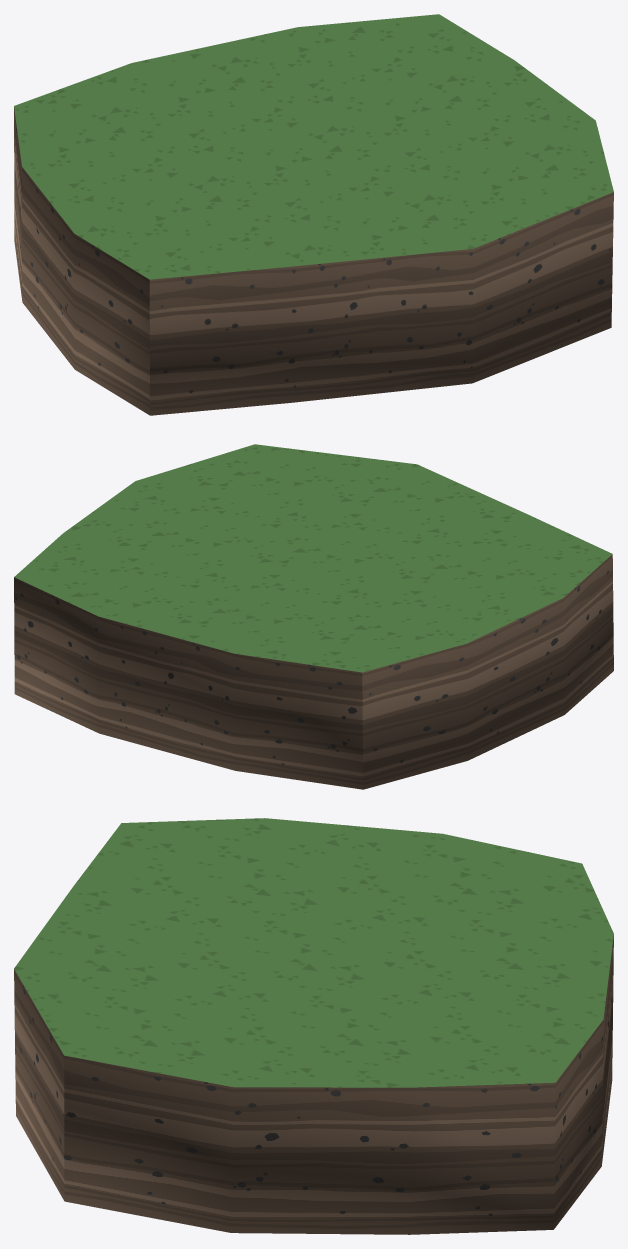
The model's file is ground1.gltf.
The picture shows the model from 3 angles, top to bottom: view 1: azimuth 30°, elevation 25°; view 2: azimuth 150°, elevation 25°; view 3: azimuth 270°, elevation 25°; orthographic projection. The views are drawn at different scales.
Visible parts, largest first — view 1: ground1; view 2: ground1; view 3: ground1.
Part boxes in pixels (left/top/right/bottom): ground1: left=14, top=14, right=613, bottom=415; ground1: left=14, top=444, right=613, bottom=789; ground1: left=14, top=818, right=613, bottom=1234.
Size of the model in its own units: 20.71 by 5.27 by 19.46.
2 materials, 2 textured.
